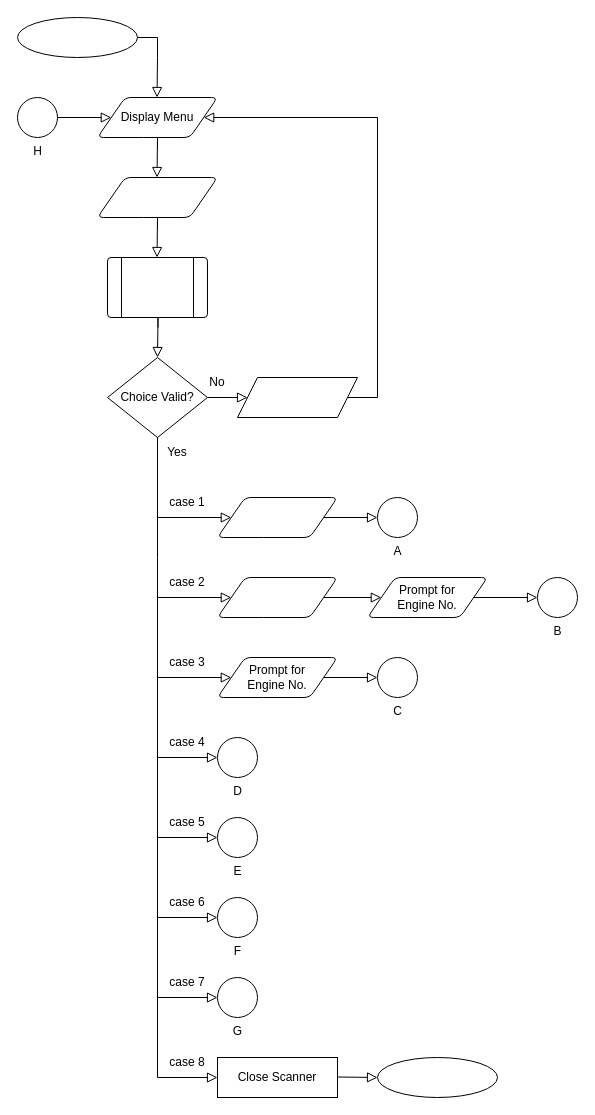
The diagram is 595 pixels wide and 1115 high, and some of its shapes have lost their labels. The box of each missing label's shape, as (x1, y1, x2, y2) in pixels:
Display "Invalid Choice": (236, 376, 358, 418)
End: (376, 1056, 498, 1098)
Input Choice: (96, 176, 218, 218)
Prompt for Brand: (216, 576, 338, 618)
Prompt for CSV path: (216, 496, 338, 538)
Redirect on Choice: (106, 256, 208, 318)
Start: (16, 16, 138, 58)
